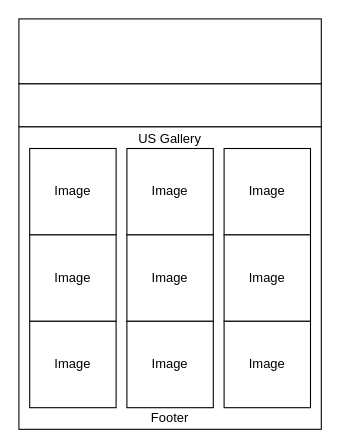
The diagram is 340 pixels wide and 448 high, and some of its shapes have lost their labels. Each missing label, with the centre of its shape:
About ~ US Gallery ~ Global Gallery ~ Review Form: (169,105)
Life Through The Lens: (169,51)
